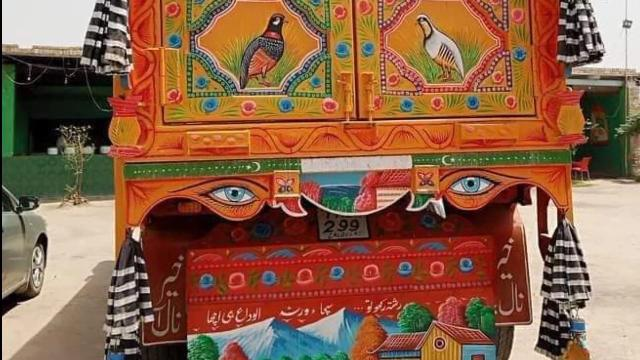plate: (317, 217, 369, 241)
